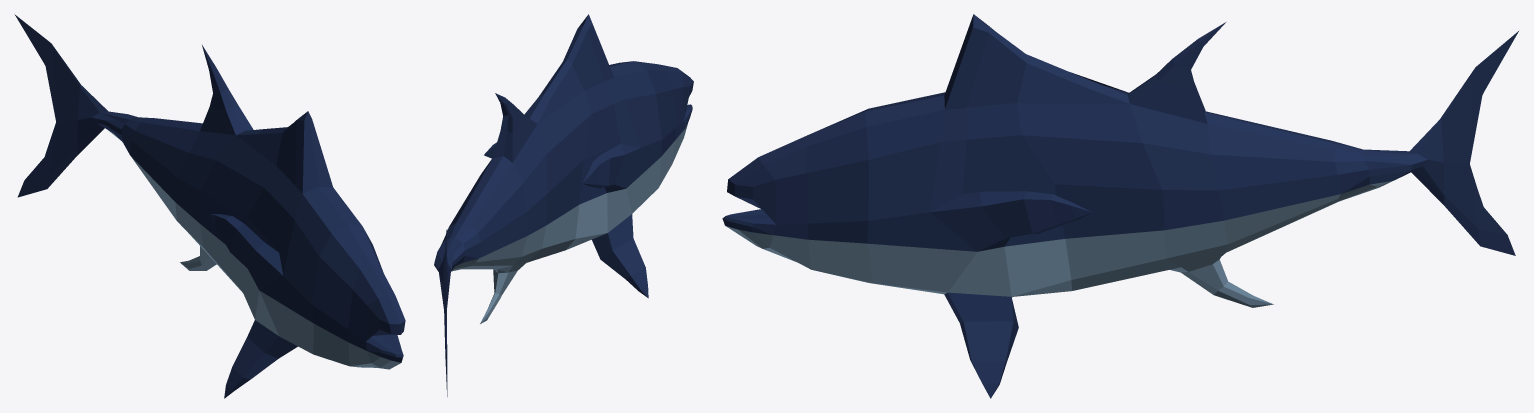
Rendered from Tuna.obj.
3 views of the same model, side by side, from view 1: azimuth 30°, elevation 25°; view 2: azimuth 150°, elevation 25°; view 3: azimuth 270°, elevation 25° (orthographic). The views are drawn at different scales.
Visible parts, largest first — view 1: Tuna_TunaMesh; view 2: Tuna_TunaMesh; view 3: Tuna_TunaMesh.
Part boxes in pixels (left/top/right/bottom): Tuna_TunaMesh: left=14, top=14, right=405, bottom=398; Tuna_TunaMesh: left=434, top=14, right=693, bottom=396; Tuna_TunaMesh: left=722, top=14, right=1518, bottom=398.
Size of the model in its own units: 0.4625 by 0.8318 by 1.76.
